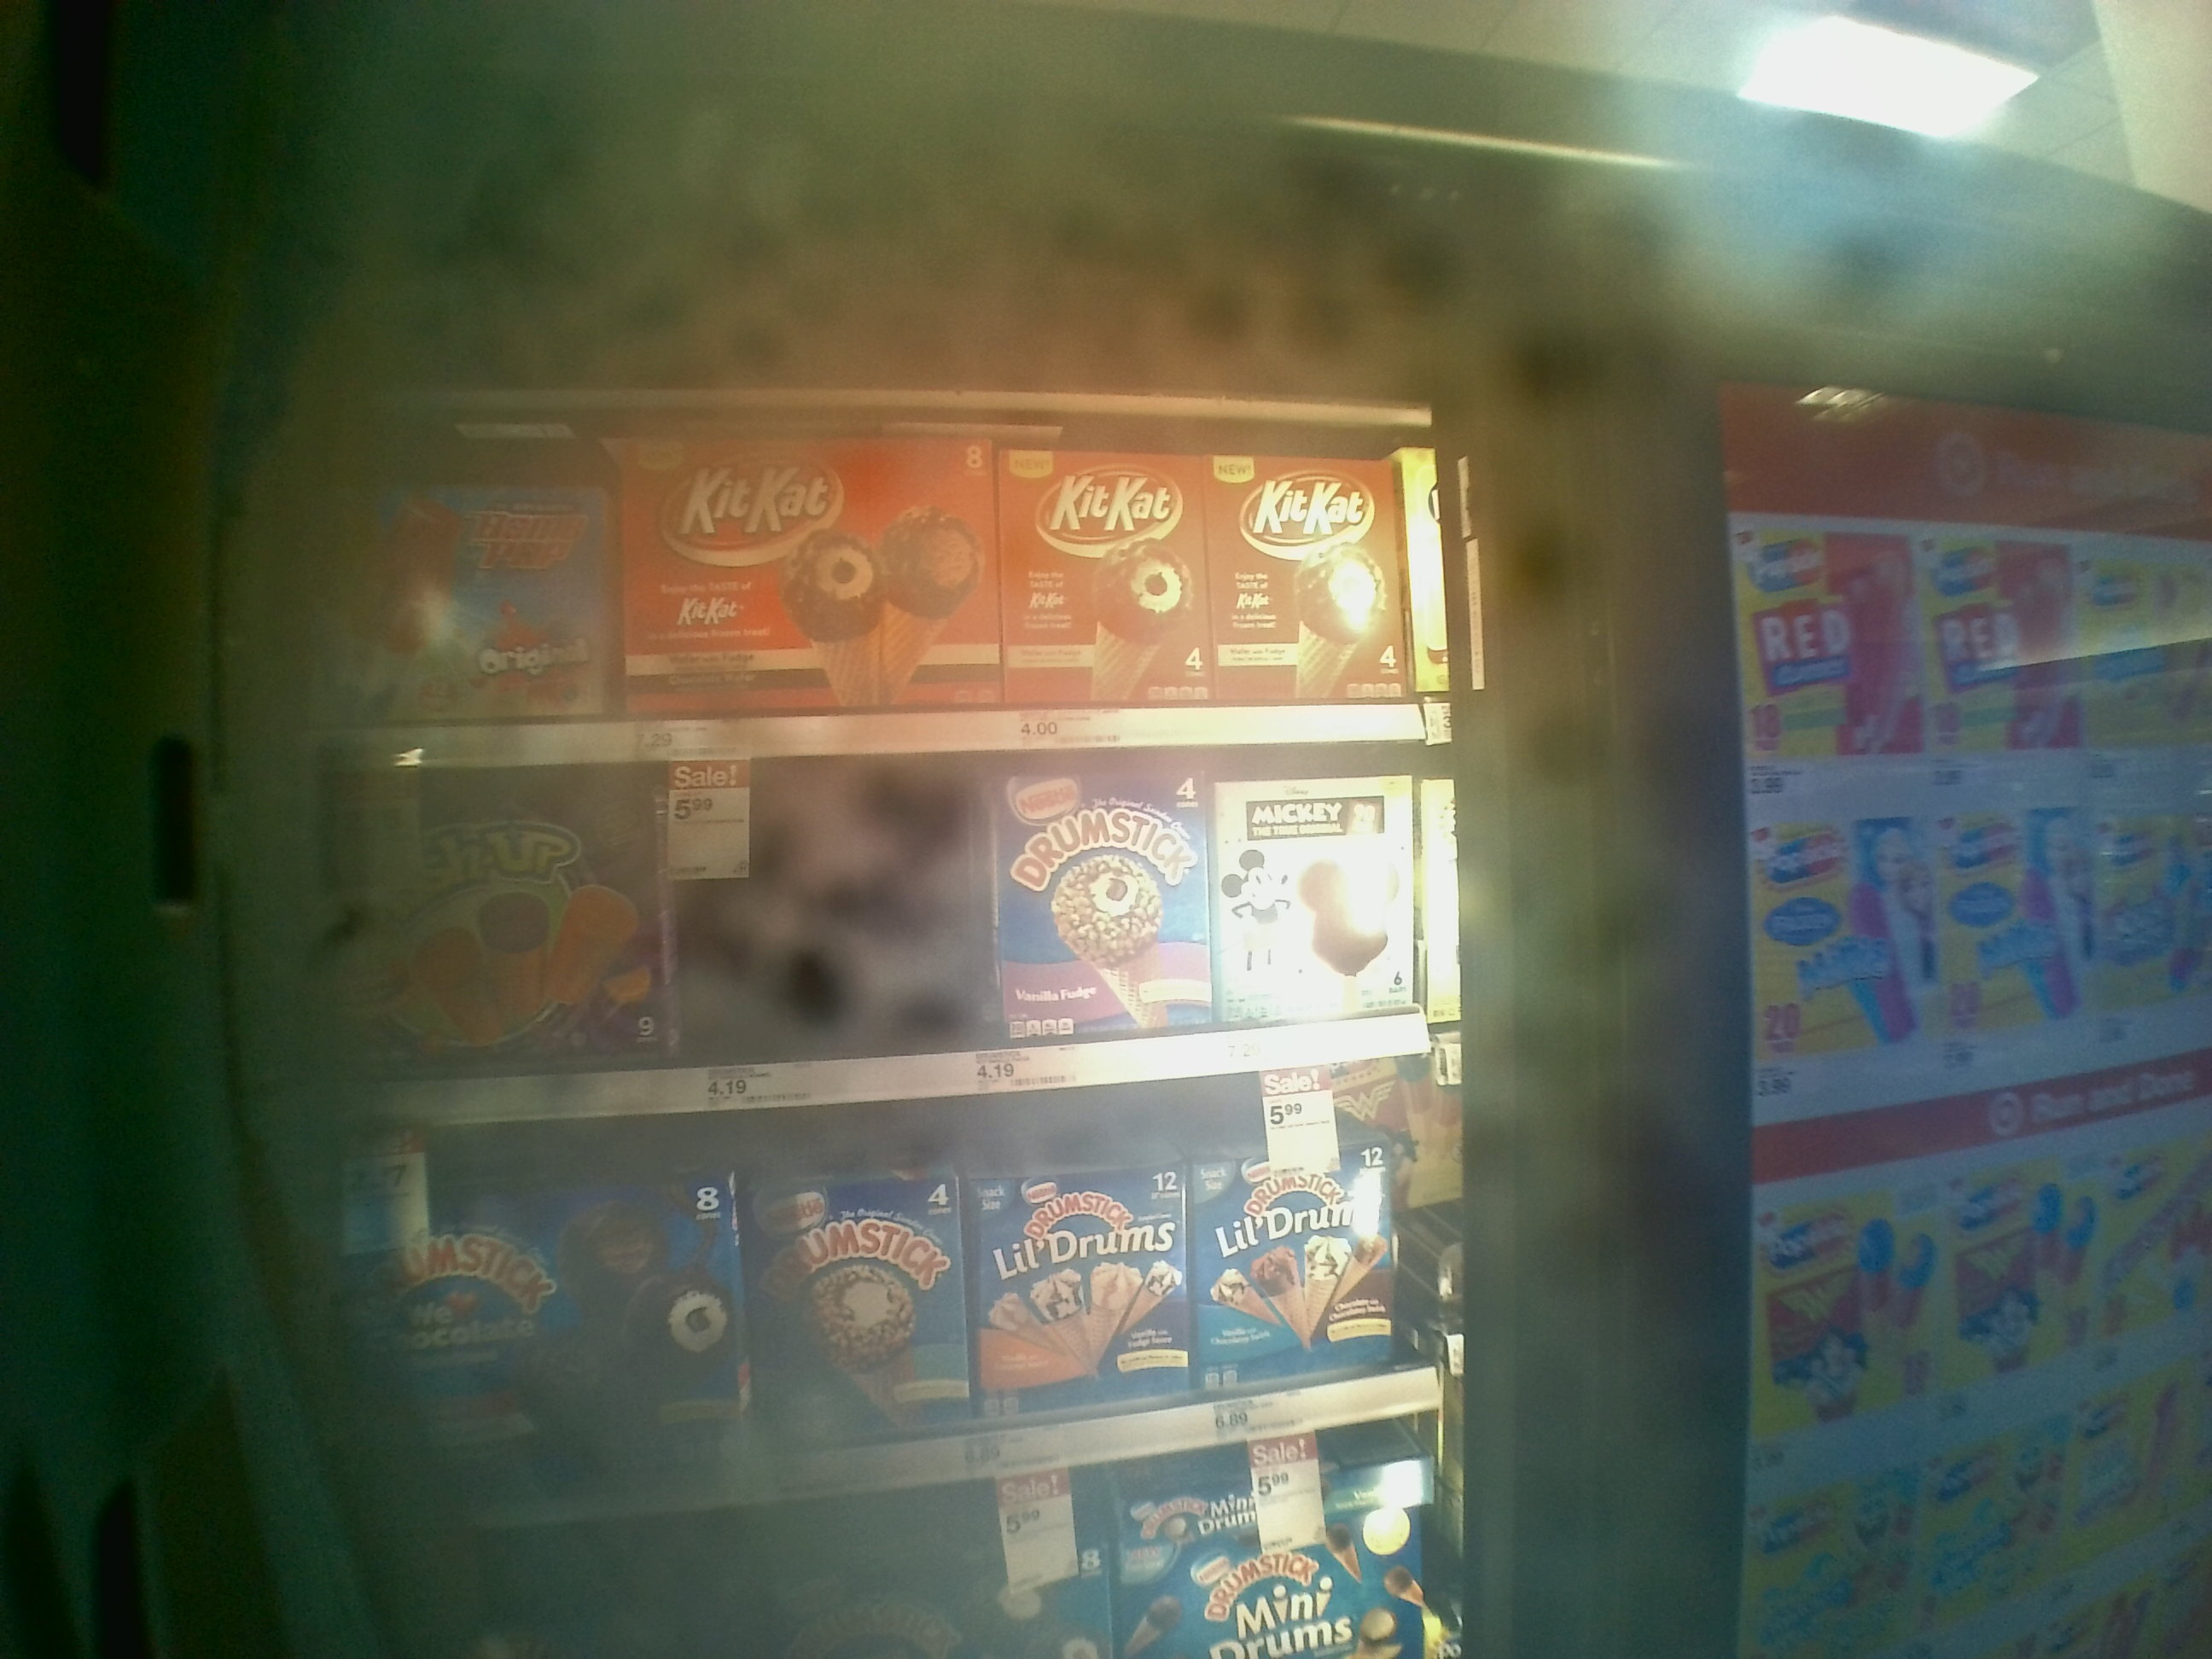shelf: (280, 742, 1484, 1129), (280, 408, 1480, 756)
